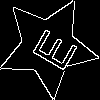E: (23, 21, 79, 74)
